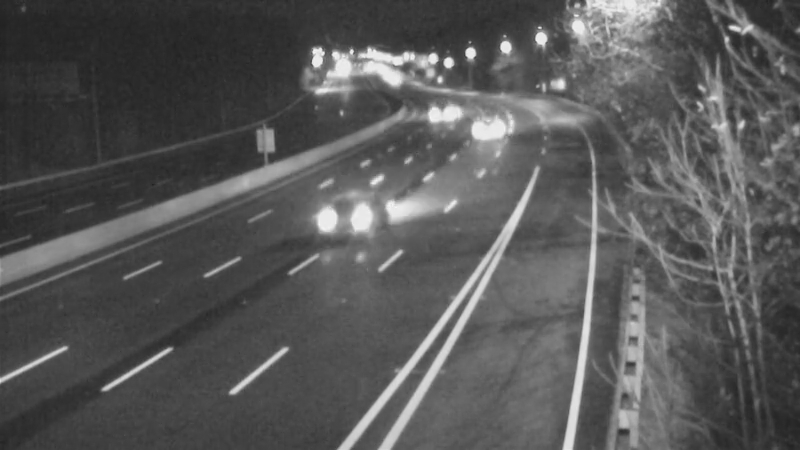vehicle: (306, 179, 386, 259), (419, 84, 469, 134), (459, 105, 509, 155)
